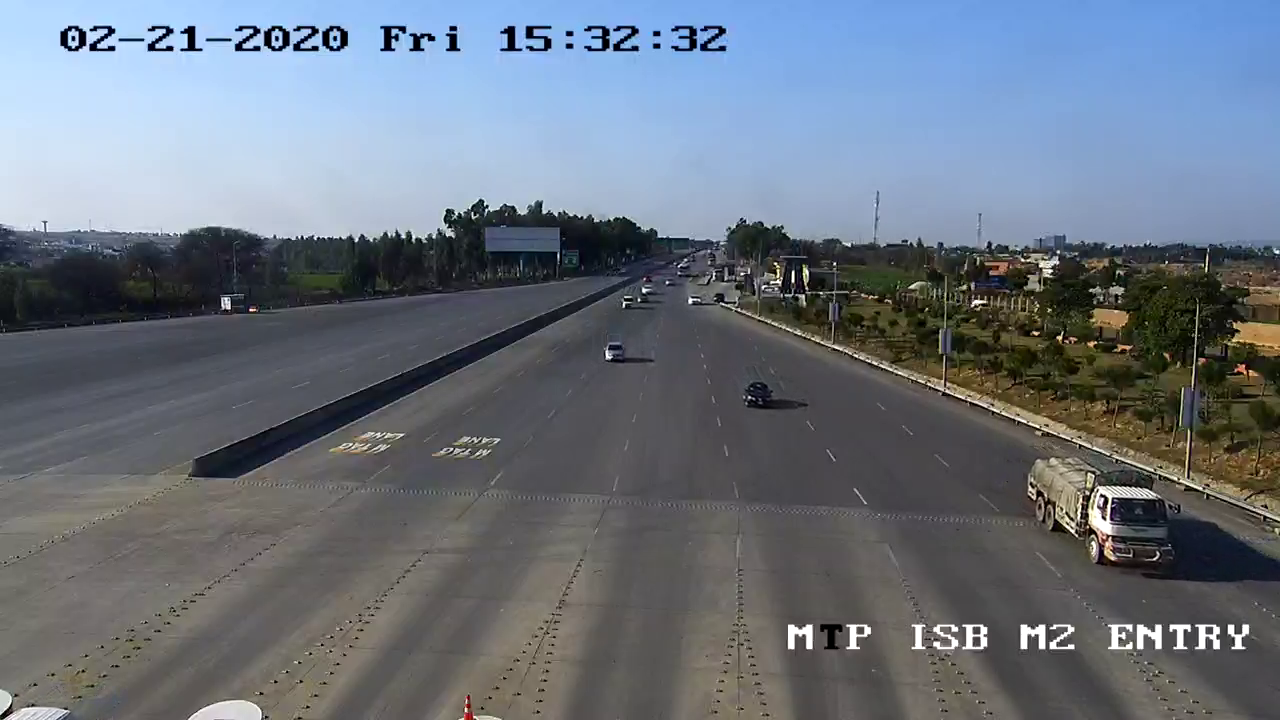f5: (1008, 444, 1195, 584)
